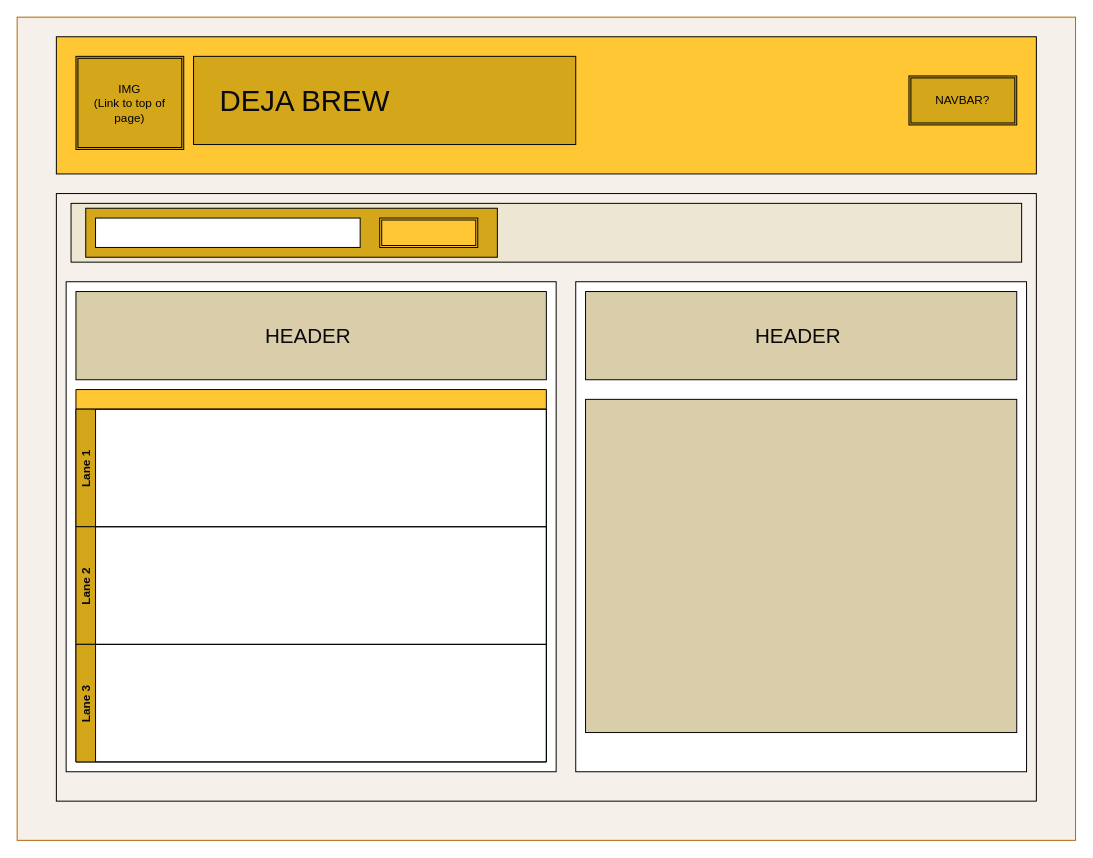
The diagram is 1093 pixels wide and 858 high, and some of its shapes have lost their labels. Each missing label, with the box of its shape:
<ZIP, CITY HERE, BEER NAME>: (95, 217, 360, 247)
Breweries Near You: (75, 389, 546, 762)
PUSHPIN MAP: (585, 398, 1017, 733)
SEARCH: (379, 217, 478, 247)
